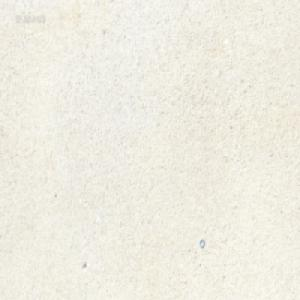Washer: (199, 238, 204, 248)
